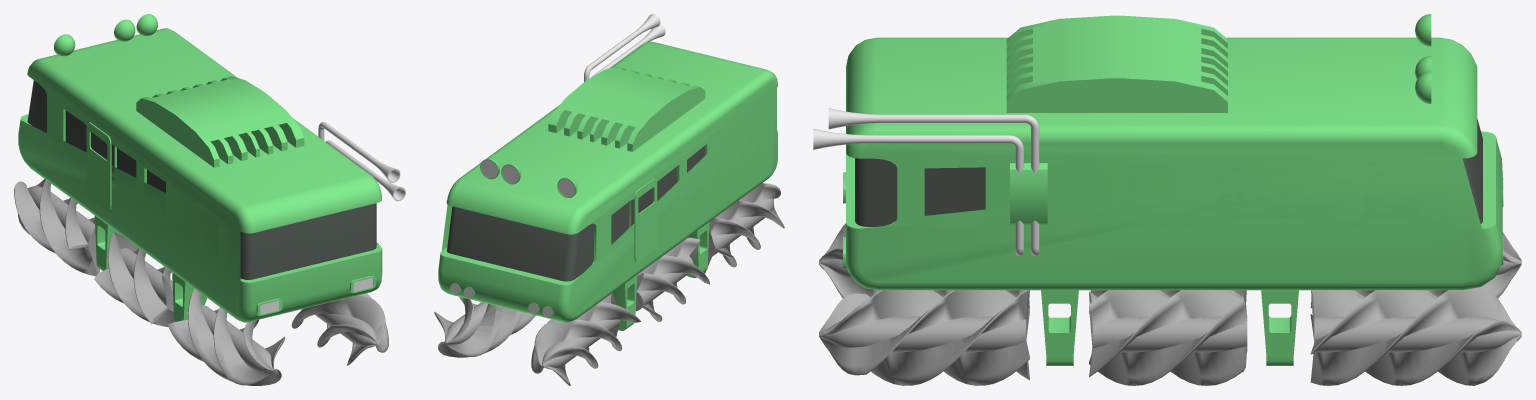
The model's file is STrain.fbx.
The picture shows the model from 3 angles, left to right: view 1: azimuth 30°, elevation 25°; view 2: azimuth 150°, elevation 25°; view 3: azimuth 270°, elevation 25°; orthographic projection. The views are drawn at different scales.
Visible parts, largest first — view 1: Cube, LeftDrill, Cube_002, RightDrill, Cylinder_003, Cube_006; view 2: Cube, LeftDrill, Cube_002, RightDrill, Cylinder_003, Cylinder_004; view 3: Cube, RightDrill, Cube_002, Cylinder_003, LeftDrill.
Boxes of the visible parts, x1,y1,x2,y2 form: Cube: [18, 14, 382, 322]; LeftDrill: [14, 179, 285, 385]; Cube_002: [27, 80, 376, 279]; RightDrill: [291, 293, 388, 365]; Cylinder_003: [318, 122, 405, 201]; Cube_006: [260, 278, 372, 314]; Cube: [438, 41, 777, 330]; LeftDrill: [531, 183, 784, 385]; Cube_002: [447, 146, 704, 281]; RightDrill: [434, 296, 535, 357]; Cylinder_003: [584, 14, 665, 81]; Cylinder_004: [450, 160, 575, 317]; Cube: [843, 14, 1503, 365]; RightDrill: [819, 286, 1521, 385]; Cube_002: [855, 119, 1482, 226]; Cylinder_003: [813, 108, 1039, 255]; LeftDrill: [819, 223, 1521, 313].
Size of the model in its own units: 811 by 977 by 2104.
